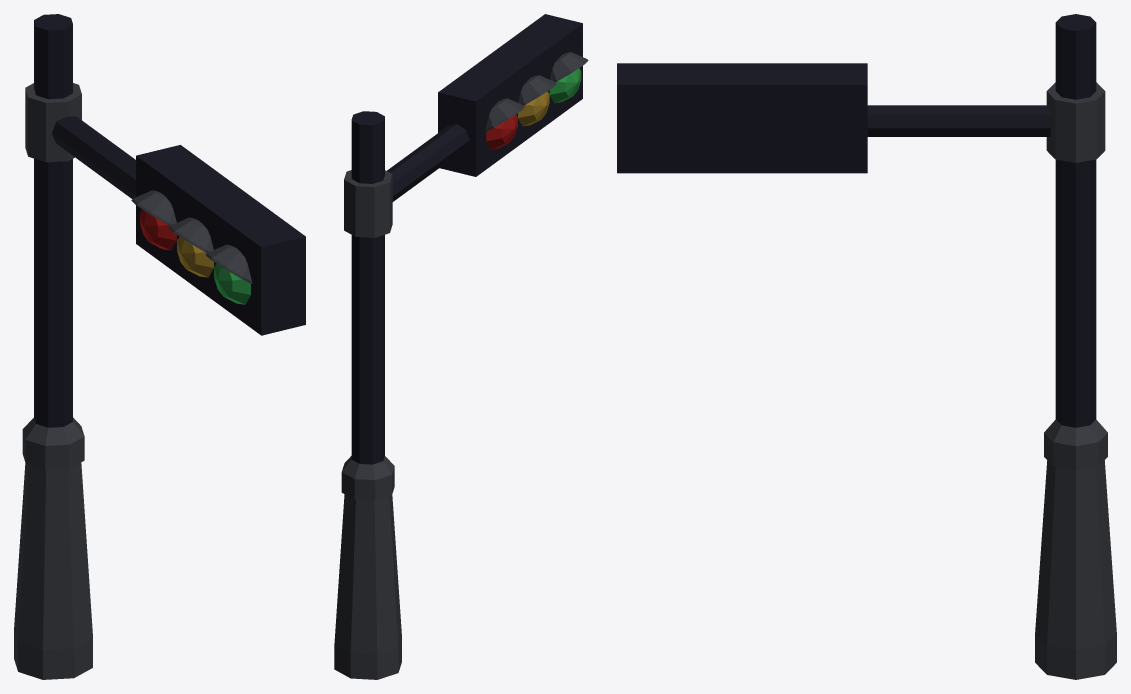
The model's file is TrafficLight_0.FBX.
3 renders of one model, left to right at view 1: azimuth 30°, elevation 25°; view 2: azimuth 150°, elevation 25°; view 3: azimuth 270°, elevation 25°, orthographic. The views are drawn at different scales.
Visible parts, largest first — view 1: sinho_1; view 2: sinho_1; view 3: sinho_1.
Boxes of the visible parts, left/top/right/bottom form: sinho_1: left=14, top=14, right=305, bottom=679; sinho_1: left=334, top=14, right=588, bottom=679; sinho_1: left=617, top=14, right=1116, bottom=679.
Size of the model in its own units: 87.71 by 645 by 457.
